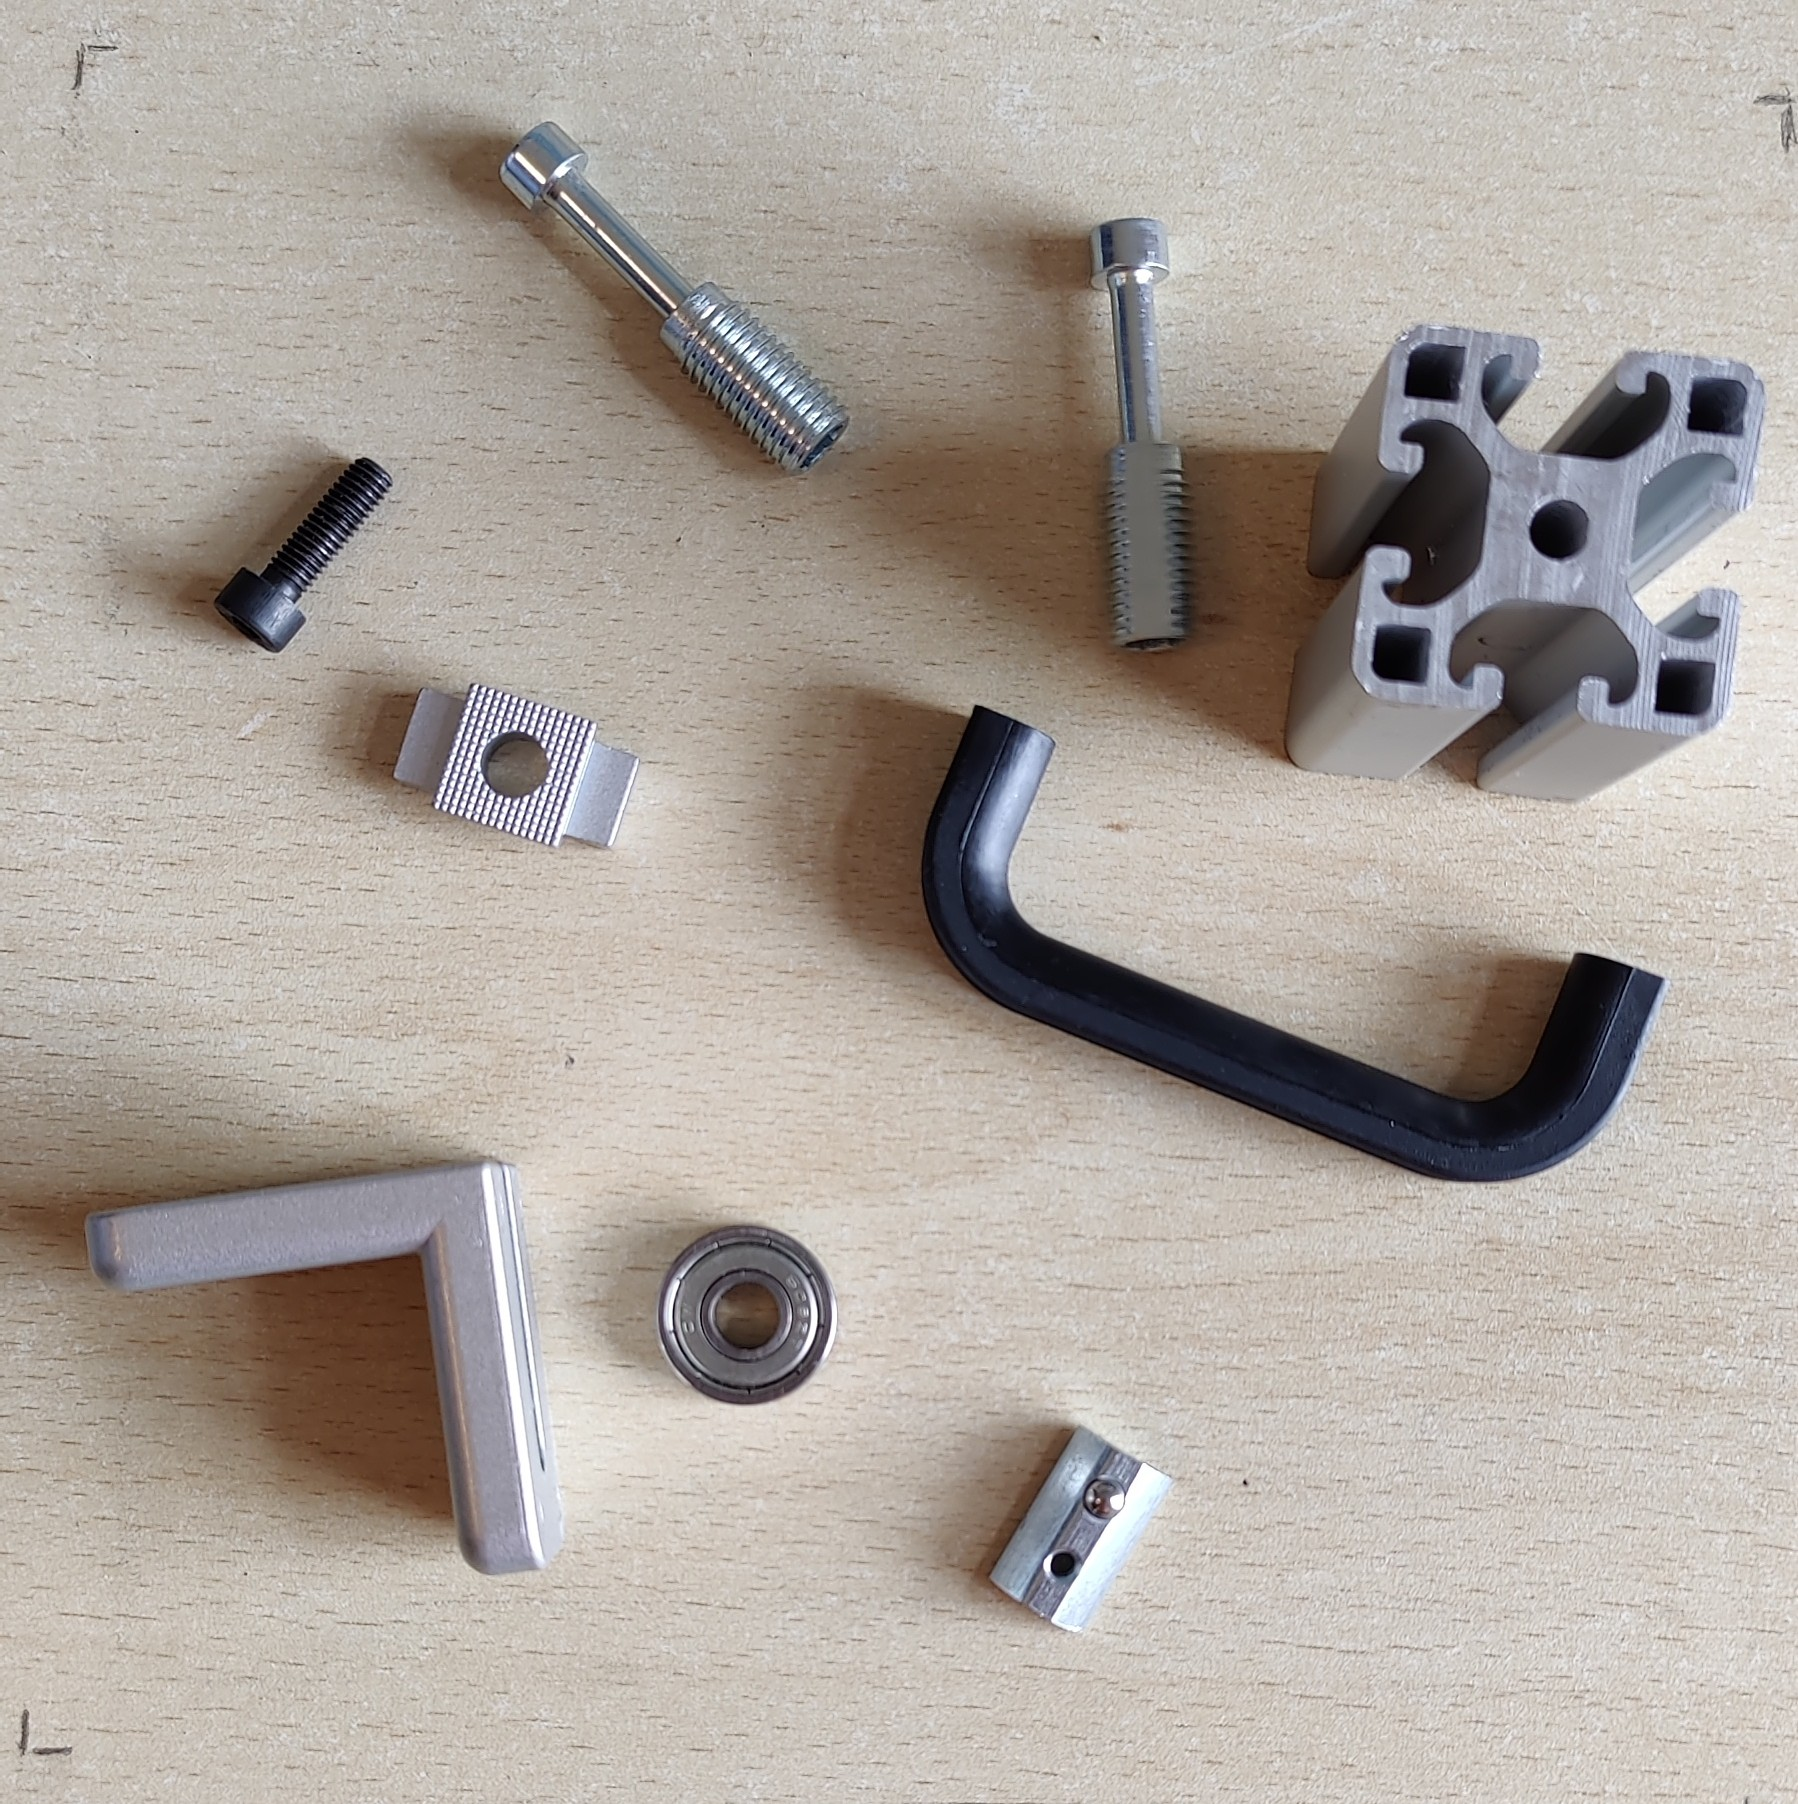Aluminium Extension: (1283, 323, 1768, 803)
Ball Bearing: (652, 1221, 836, 1407)
Multiwinkel: (81, 1155, 566, 1578)
Pull Handle: (919, 701, 1671, 1183)
Shoulder Socket Head Cap Screw: (492, 119, 855, 482), (1083, 216, 1200, 658)
Socket Head Cap Screw: (211, 453, 397, 655)
T Nut Square: (387, 675, 644, 854)
T Spring Nut: (986, 1425, 1181, 1634)
